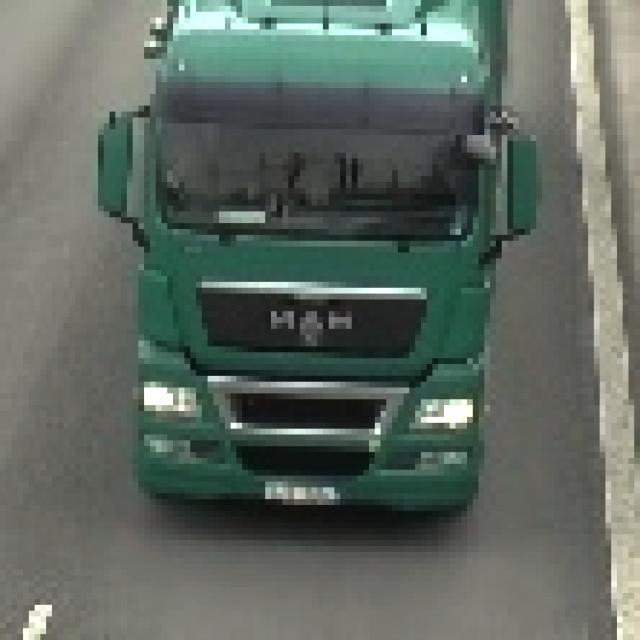truck: (93, 1, 537, 518)
